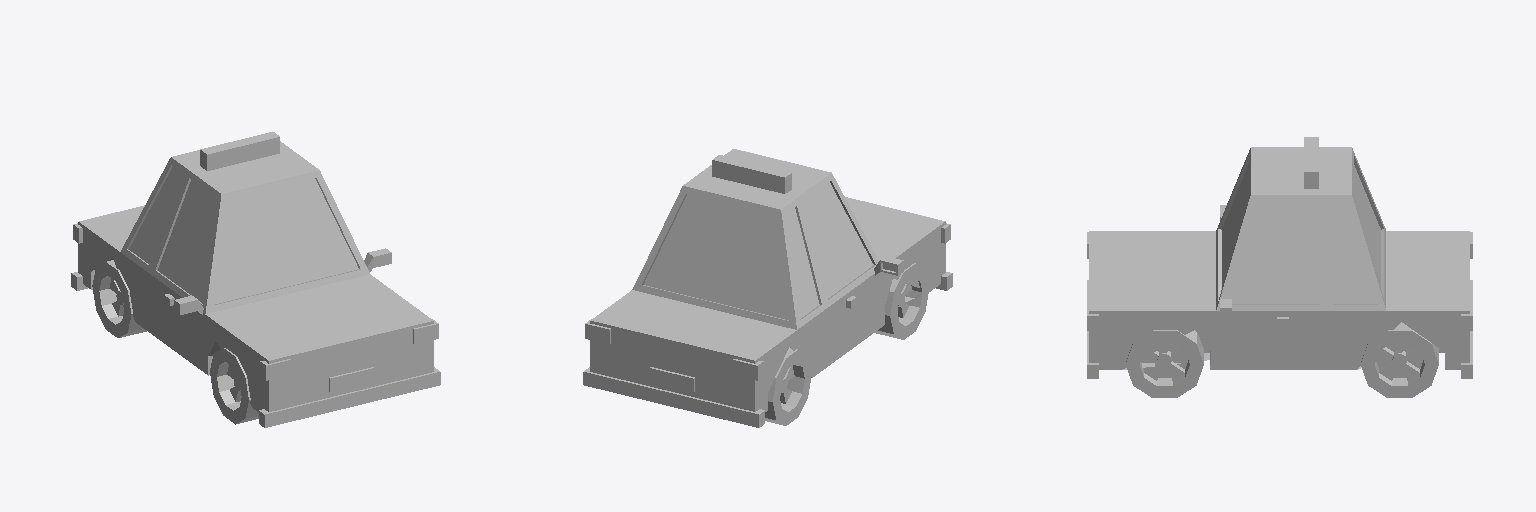
The model's file is Coche6.obj.
3 views of the same model, side by side, from view 1: azimuth 30°, elevation 25°; view 2: azimuth 150°, elevation 25°; view 3: azimuth 270°, elevation 25° (orthographic).
Parts seen in each view (by area): view 1: Cube.004; view 2: Cube.004; view 3: Cube.004.
Boxes of the visible parts, x1=… form: Cube.004: x1=71, y1=132, x2=440, y2=427; Cube.004: x1=583, y1=149, x2=952, y2=427; Cube.004: x1=1087, y1=137, x2=1472, y2=397.
Bounding box in the file's own units: 2.57 × 2.35 × 4.06.